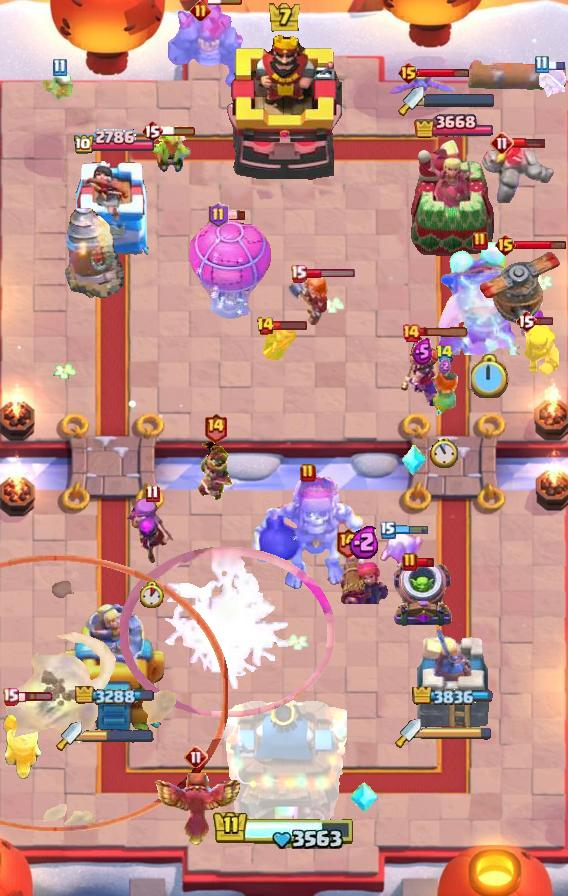archer: (260, 323, 296, 371)
bar: (514, 240, 567, 251), (417, 68, 470, 79), (418, 327, 470, 338), (305, 268, 356, 279), (17, 691, 54, 703), (161, 125, 197, 137), (394, 524, 429, 536), (272, 320, 308, 331), (512, 137, 545, 149), (547, 59, 566, 71), (208, 0, 244, 6), (416, 557, 435, 568), (227, 210, 246, 221), (535, 316, 554, 326)
bar-level: (335, 527, 360, 558), (203, 412, 228, 443), (184, 745, 208, 769), (490, 131, 514, 155), (494, 233, 517, 257), (397, 61, 420, 85), (208, 202, 229, 228), (515, 309, 537, 333), (141, 119, 163, 143), (190, 0, 211, 21), (401, 323, 421, 343), (256, 316, 275, 336), (435, 344, 454, 363), (2, 687, 19, 706), (290, 264, 307, 283), (402, 552, 418, 572), (300, 463, 316, 483), (472, 231, 488, 251), (380, 521, 396, 539), (145, 484, 160, 503), (52, 58, 67, 77), (534, 55, 549, 74)
barbarian-evolution: (515, 323, 565, 377)
bat-evolution: (388, 71, 458, 101)
clock: (471, 354, 509, 398), (430, 437, 458, 468), (140, 581, 164, 608)
dagger-duchess-tower: (59, 595, 169, 731), (409, 138, 497, 256), (414, 623, 492, 731)
dagger-duchess-tower-bar: (82, 729, 154, 743), (421, 726, 493, 740), (424, 93, 496, 107)
elixir: (349, 524, 381, 559), (412, 338, 433, 365), (438, 358, 451, 374)
firecracker-evolution: (337, 542, 393, 604)
goblin: (147, 133, 193, 175)
golemite: (480, 141, 556, 203)
ice-spirit-evolution: (376, 530, 426, 568)
ice-spirit-evolution-symbol: (350, 780, 378, 814), (401, 444, 427, 476)
king-tower: (226, 33, 342, 181), (221, 690, 347, 826)
king-tower-bar: (212, 810, 356, 852)
little-prince: (196, 439, 235, 501)
mortar-evolution: (390, 559, 454, 629)
mother-witch: (125, 496, 179, 566)
queen-tower: (68, 158, 160, 256)
ram-rider: (2, 698, 44, 780)
skeleton: (42, 70, 76, 102)
skeleton-evolution: (536, 66, 568, 100)
the-log: (466, 57, 568, 97)
tower-bar: (414, 111, 493, 142), (73, 129, 156, 156), (75, 686, 154, 707), (412, 687, 494, 705)
valkyrie: (284, 275, 330, 329), (425, 367, 463, 419)
valkyrie-evolution: (400, 333, 444, 409)
